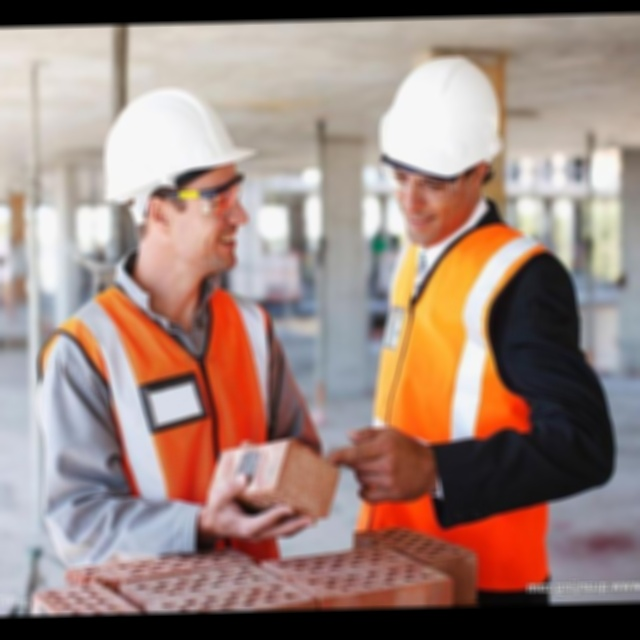Con_Casco: (95, 86, 255, 276), (375, 52, 503, 234)
Con_Chaleco: (40, 286, 281, 565), (349, 235, 553, 527)
